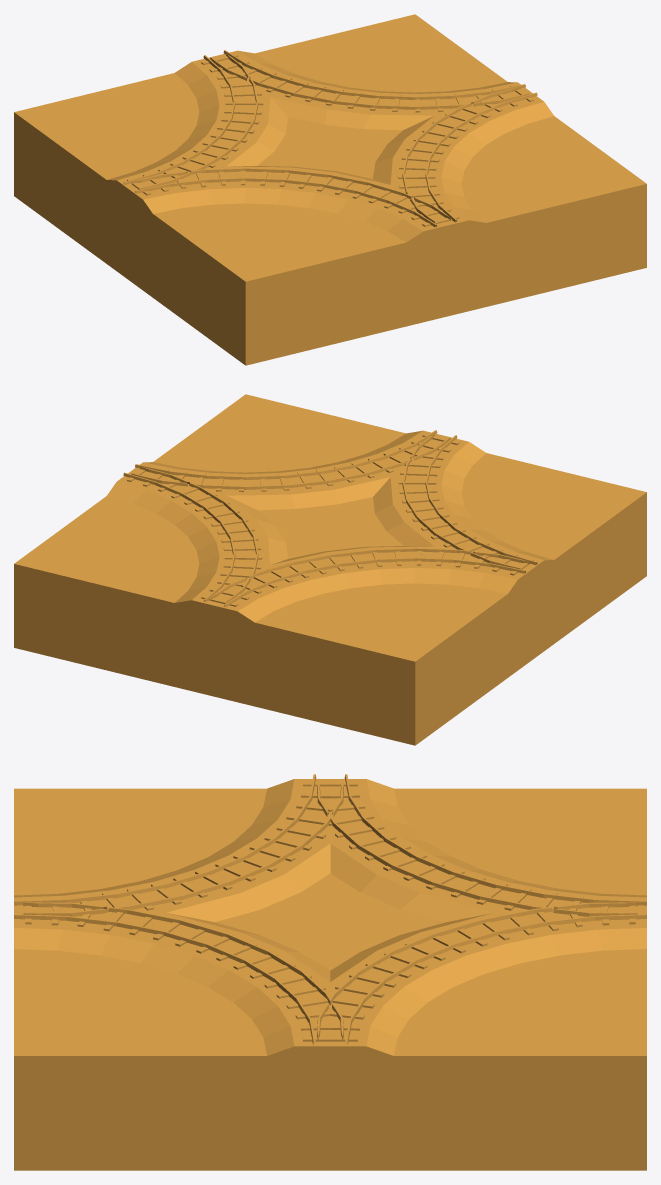
Rendered from tile-rail-intersection.glb.
3 renders of one model, top to bottom at view 1: azimuth 30°, elevation 25°; view 2: azimuth 150°, elevation 25°; view 3: azimuth 270°, elevation 25°, orthographic. The views are drawn at different scales.
Parts seen in each view (by area): view 1: tile-rail-intersection; view 2: tile-rail-intersection; view 3: tile-rail-intersection.
Part boxes in pixels (x1,y1,x2,y2): tile-rail-intersection: [14, 14, 646, 365]; tile-rail-intersection: [14, 394, 646, 745]; tile-rail-intersection: [14, 774, 646, 1170].
Size of the model in its own units: 30 by 6.75 by 30.
